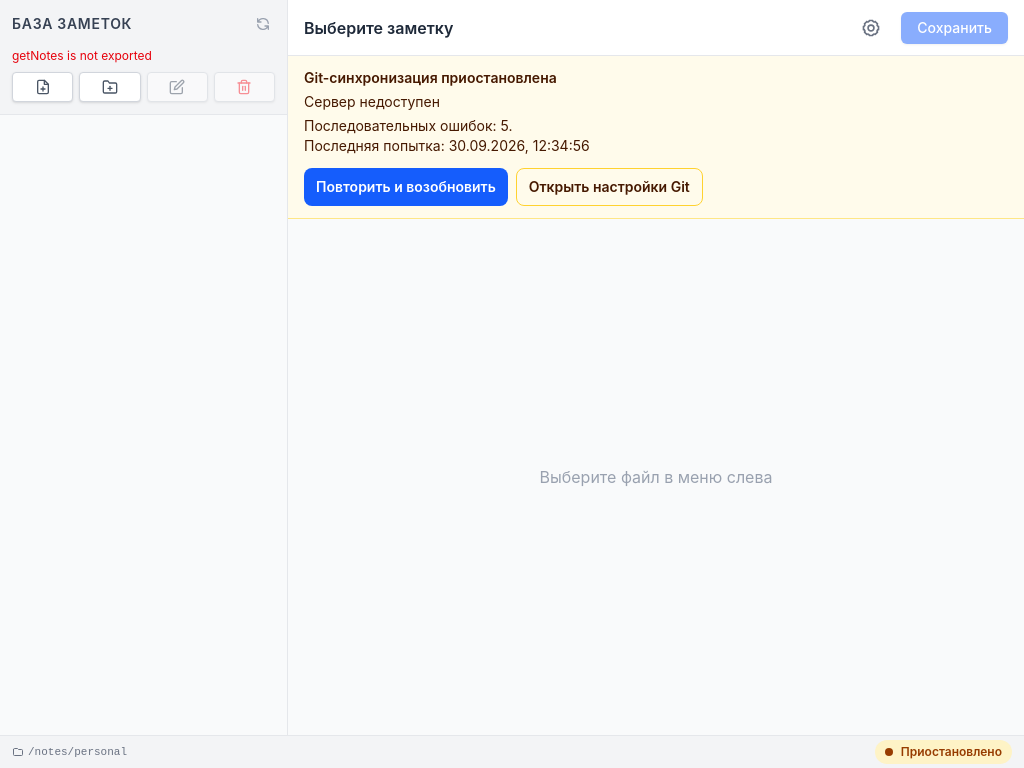
Test: App setup gate › shares the action lock when resume starts first
The image size is (1024, 768).
Expected: the text "Выберите заметку" is shown, x1=304 y1=16 x2=453 y2=40
Expected: the text "Сервер недоступен" is shown, x1=304 y1=93 x2=440 y2=110
What coordinates should you click on to do the following:
click the button with aria-label "Открыть детали Git:"
I would click on:
 (943, 752)
Its box is x1=875 y1=740 x2=1012 y2=764.
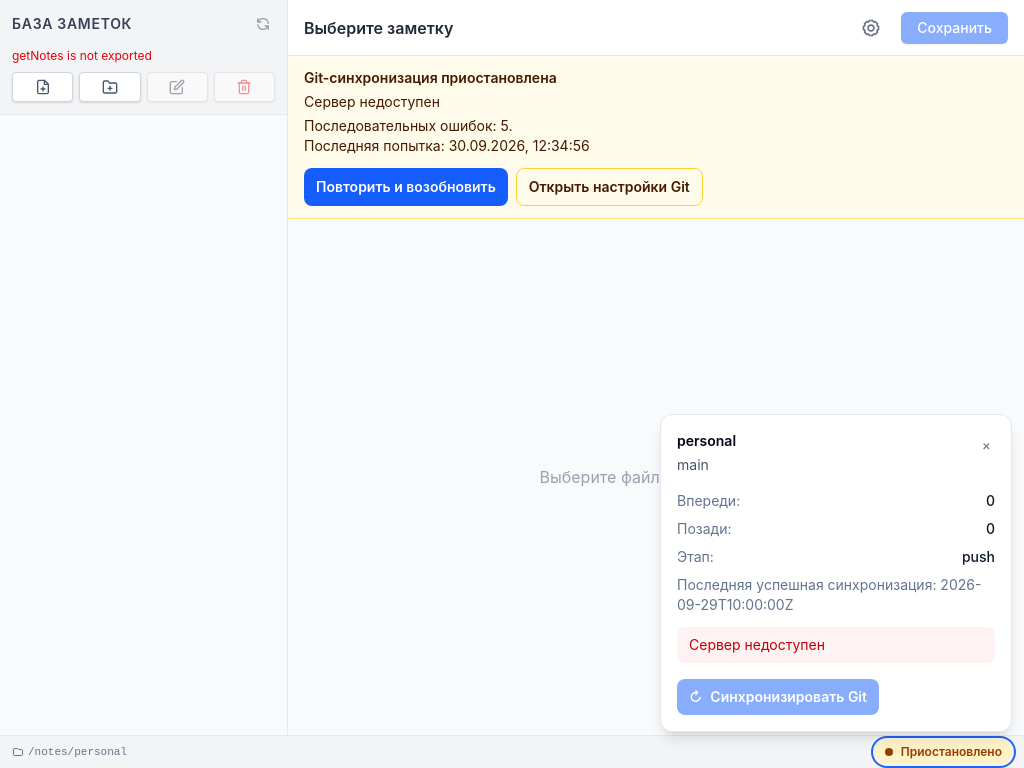
What coordinates should you click on to do the following:
click the button "Повторить и возобновить"
I would click on:
 (406, 187)
Its box is x1=304 y1=168 x2=508 y2=206.
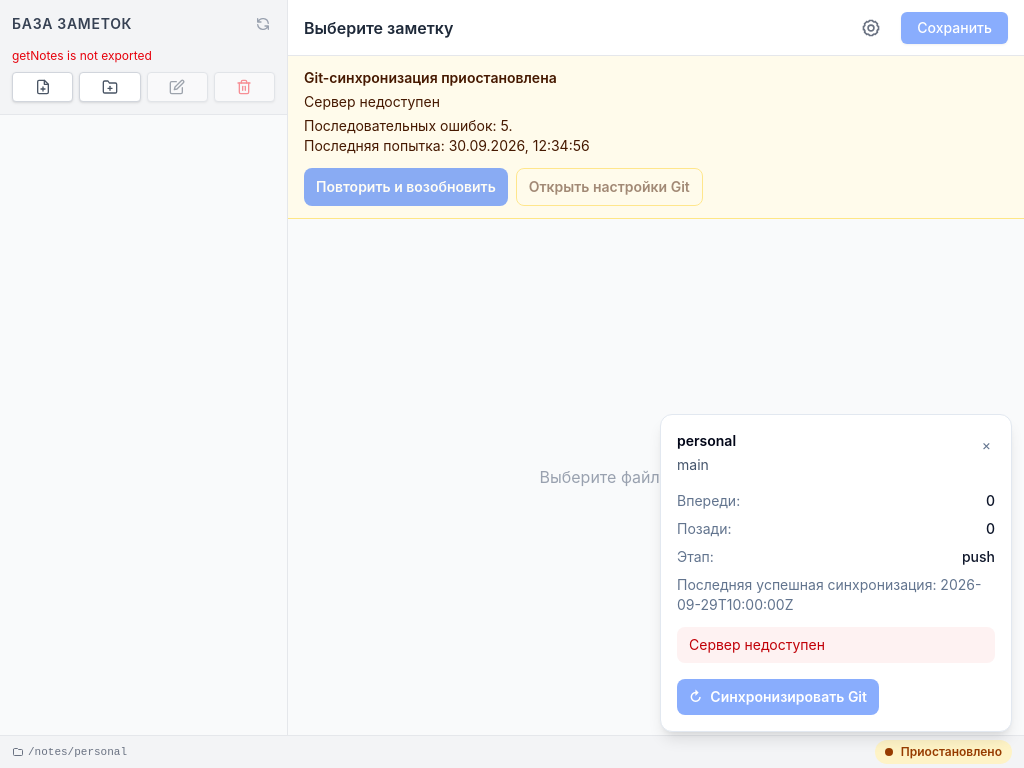
Expected: the button "↻ Синхронизировать Git" is disabled
Expected: the button "Повторить и возобновить" is disabled, x1=304 y1=168 x2=508 y2=206
What coordinates should you click on to do the following:
click the button "↻ Синхронизировать Git"
I would click on:
 (778, 697)
Its box is x1=677 y1=679 x2=879 y2=715.
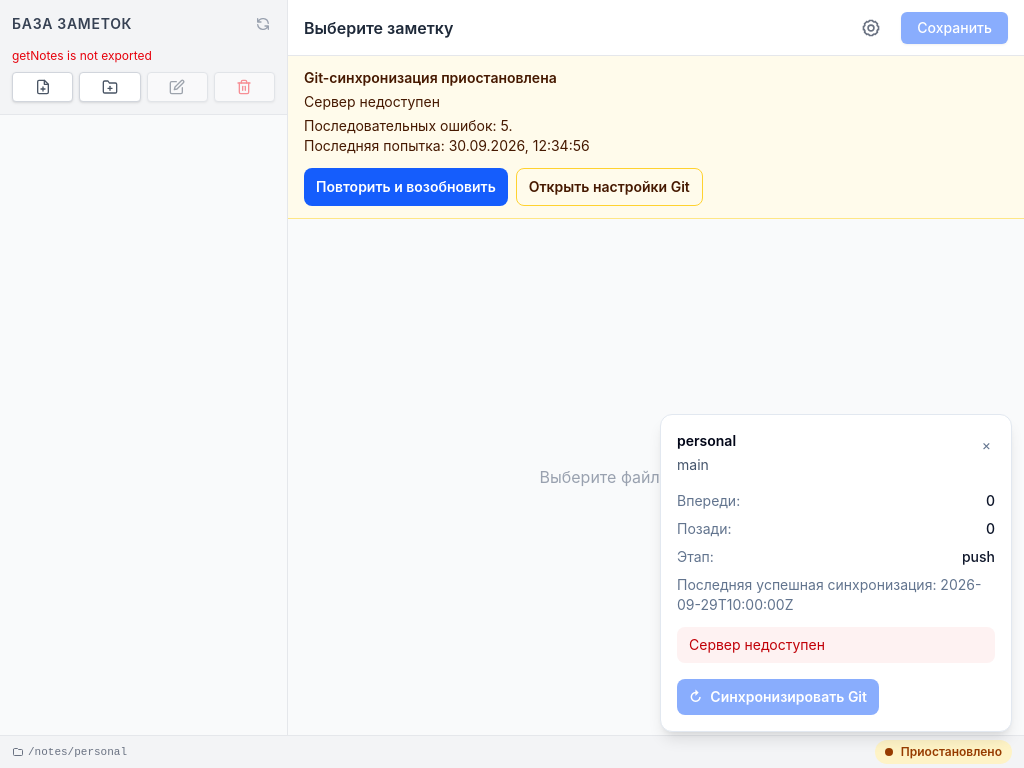
Expected: the button "Повторить и возобновить" is enabled, x1=304 y1=168 x2=508 y2=206
